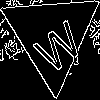W: (27, 11, 86, 76)
